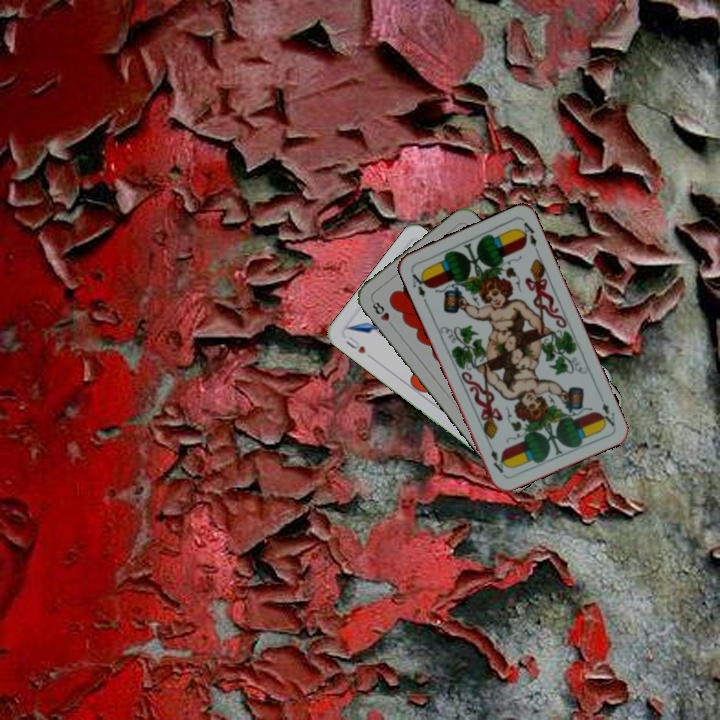EA: (595, 391, 618, 429), (407, 267, 431, 300)
H8: (368, 296, 397, 331)
HU: (341, 332, 368, 356)
